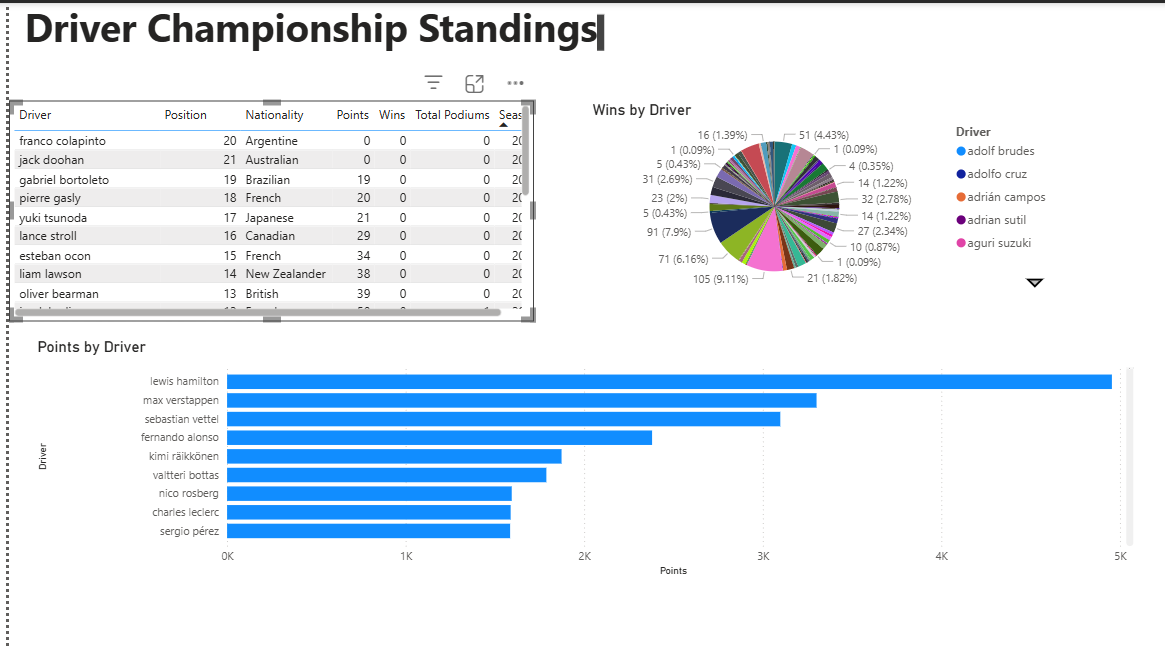

What the dashboard file says about the page in this screenshot:
{"tool":"powerbi","page":{"name":"F1_Driver_Championship_Dashboard","canvas":[1280,720],"ordinal":0},"visuals":[{"type":"textbox","box":[0,0,662.6,58],"z":0},{"type":"tableEx","fields":{"Values":["01_Build_driver_standing_view.driver_name","01_Build_driver_standing_view.standing_position","01_Build_driver_standing_view.nationality","01_Build_driver_standing_view.total_points","01_Build_driver_standing_view.total_wins","01_Build_driver_standing_view.total_podiums","01_Build_driver_standing_view.season"]},"box":[27,108,579,244],"z":1},{"type":"clusteredBarChart","fields":{"Category":["01_Build_driver_standing_view.driver_name"],"Y":["Sum(01_Build_driver_standing_view.total_points)"]},"box":[27,370,1220,268],"z":2},{"type":"pieChart","fields":{"Y":["Sum(01_Build_driver_standing_view.total_wins)"],"Series":["01_Build_driver_standing_view.driver_name"]},"box":[640,108,584,214],"z":3}]}

Visuals, with their boxes in screenshot pixels (x1, y1, x2, y2), scaled from the page's 1280x720 canvas onto the 1165x648 screenshot:
textbox: (0, 0, 603, 52)
tableEx - 01_Build_driver_standing_view.driver_name x 01_Build_driver_standing_view.standing_position: (25, 97, 552, 317)
clusteredBarChart - 01_Build_driver_standing_view.driver_name x Sum(01_Build_driver_standing_view.total_points): (25, 333, 1135, 574)
pieChart - Sum(01_Build_driver_standing_view.total_wins) x 01_Build_driver_standing_view.driver_name: (582, 97, 1114, 290)
